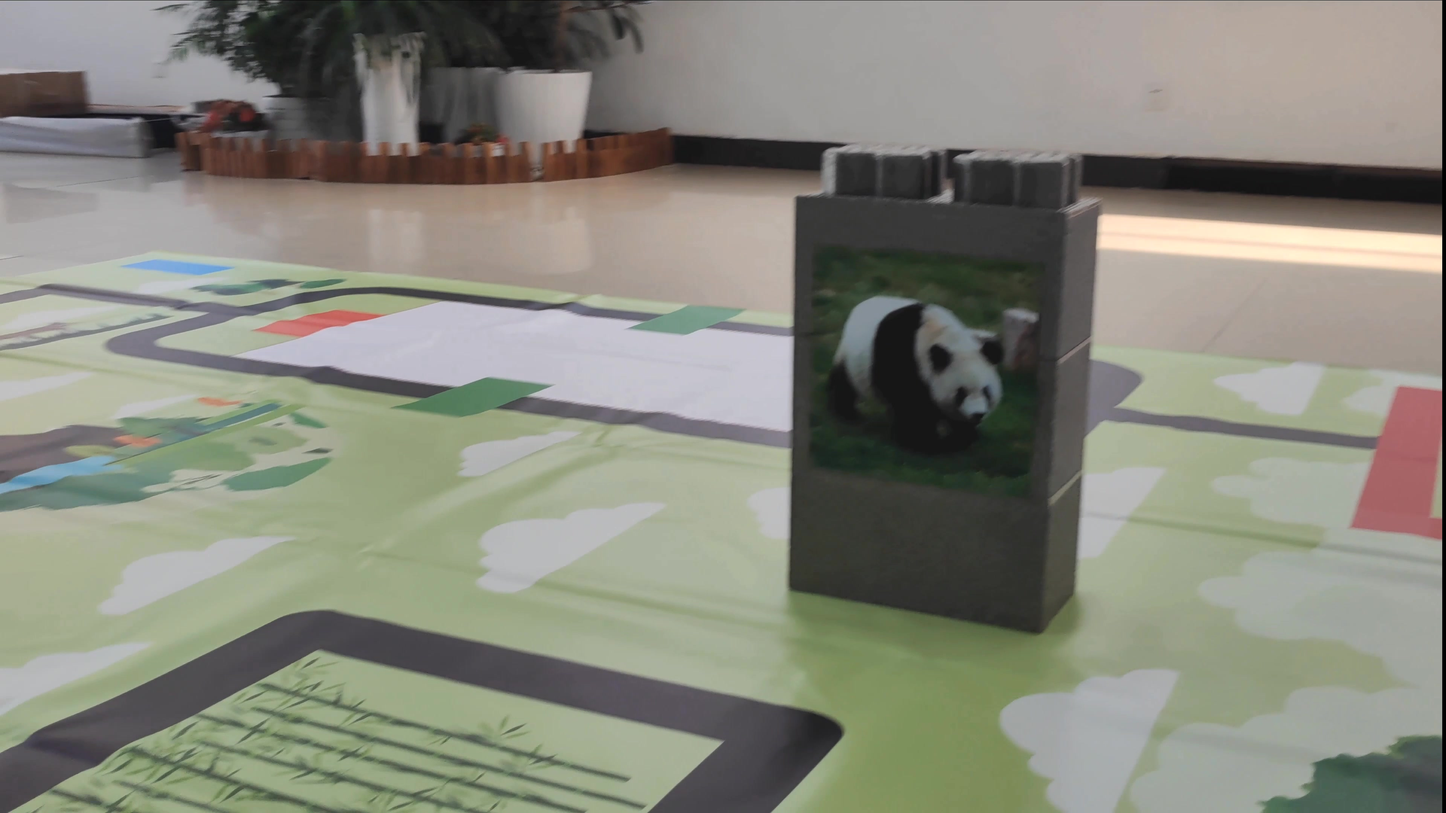panda: (793, 264, 1039, 465)
